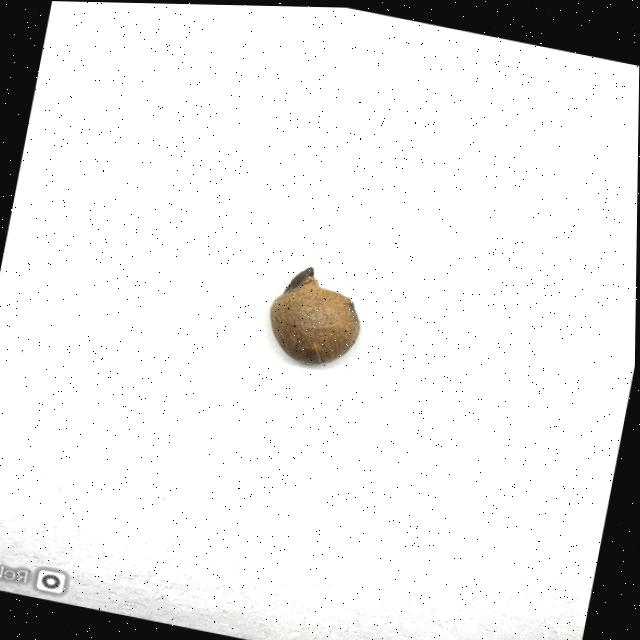Insect damage: (261, 258, 372, 371)
